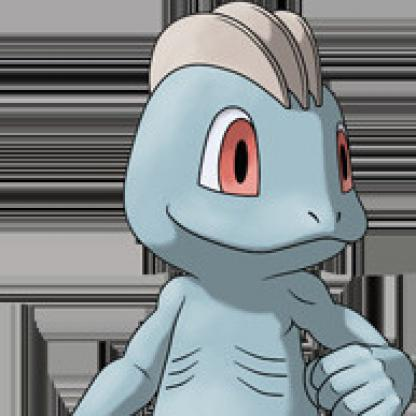Machop: (91, 1, 415, 415)
